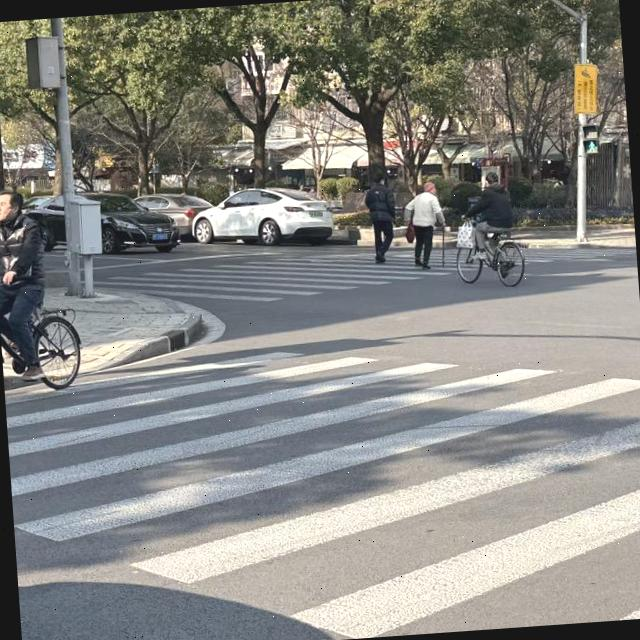curb: (94, 301, 202, 370), (514, 224, 574, 232), (590, 221, 633, 231)
